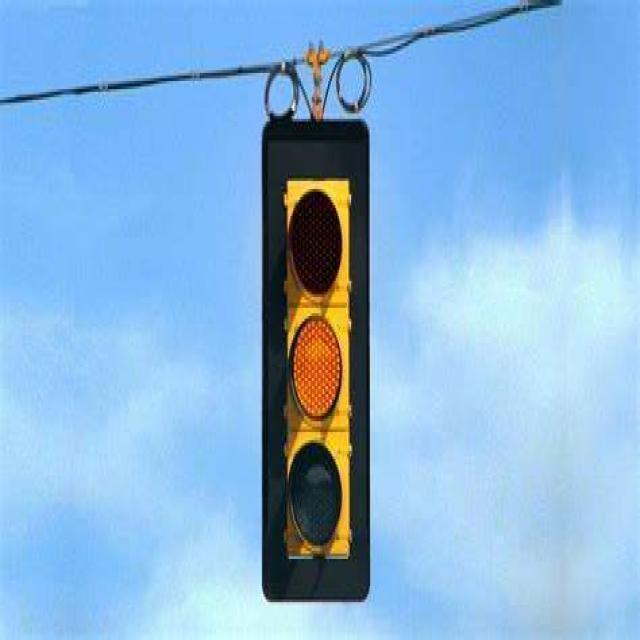yellow_light: (280, 173, 354, 569)
